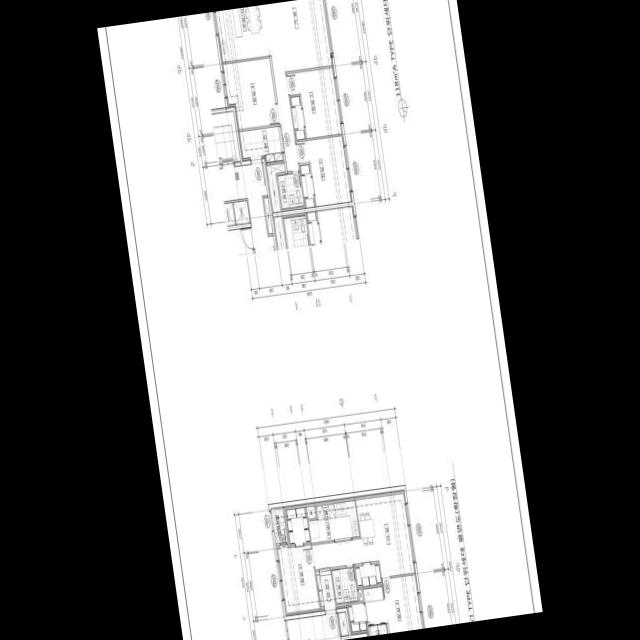background: (97, 0, 543, 640)
space_bedroom: (222, 58, 279, 129), (287, 67, 343, 139), (297, 135, 352, 207), (276, 544, 320, 615), (382, 574, 422, 633)
space_dressroom: (284, 504, 310, 545), (363, 586, 388, 625), (347, 602, 368, 634)
space_elevator: (212, 111, 240, 164)
space_elevator_hall: (219, 162, 276, 253), (286, 613, 341, 640)
space_front: (239, 125, 283, 163), (316, 570, 336, 610)
space_kitchen: (216, 5, 271, 61), (309, 497, 360, 543)
space_living_room: (264, 0, 333, 171), (312, 490, 416, 577)
space_other: (267, 163, 285, 212), (355, 563, 381, 587), (234, 200, 250, 224), (263, 197, 273, 233), (338, 611, 349, 635), (225, 202, 236, 225), (306, 502, 316, 518), (358, 589, 363, 600)
space_outdoor_room: (271, 507, 288, 543)
space_toilet: (332, 566, 359, 604), (277, 172, 304, 209), (368, 625, 379, 636), (378, 623, 388, 635)
